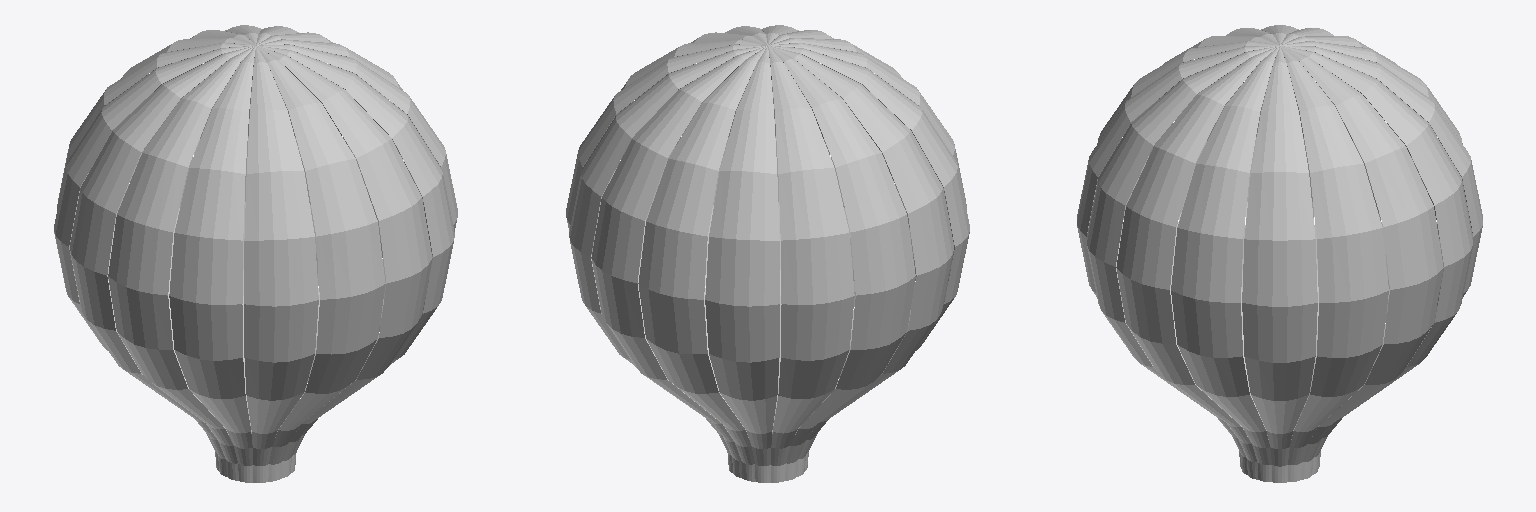
The model's file is balloon.obj.
The picture shows the model from 3 angles: view 1: azimuth 30°, elevation 25°; view 2: azimuth 150°, elevation 25°; view 3: azimuth 270°, elevation 25°; orthographic projection.
Parts seen in each view (by area): view 1: Circle; view 2: Circle; view 3: Circle.
Part boxes in pixels (x1,y1,x2,y2): Circle: (54, 25, 457, 482); Circle: (566, 25, 969, 482); Circle: (1077, 25, 1482, 482).
Bounding box in the file's own units: 2.09 × 2.39 × 2.09.